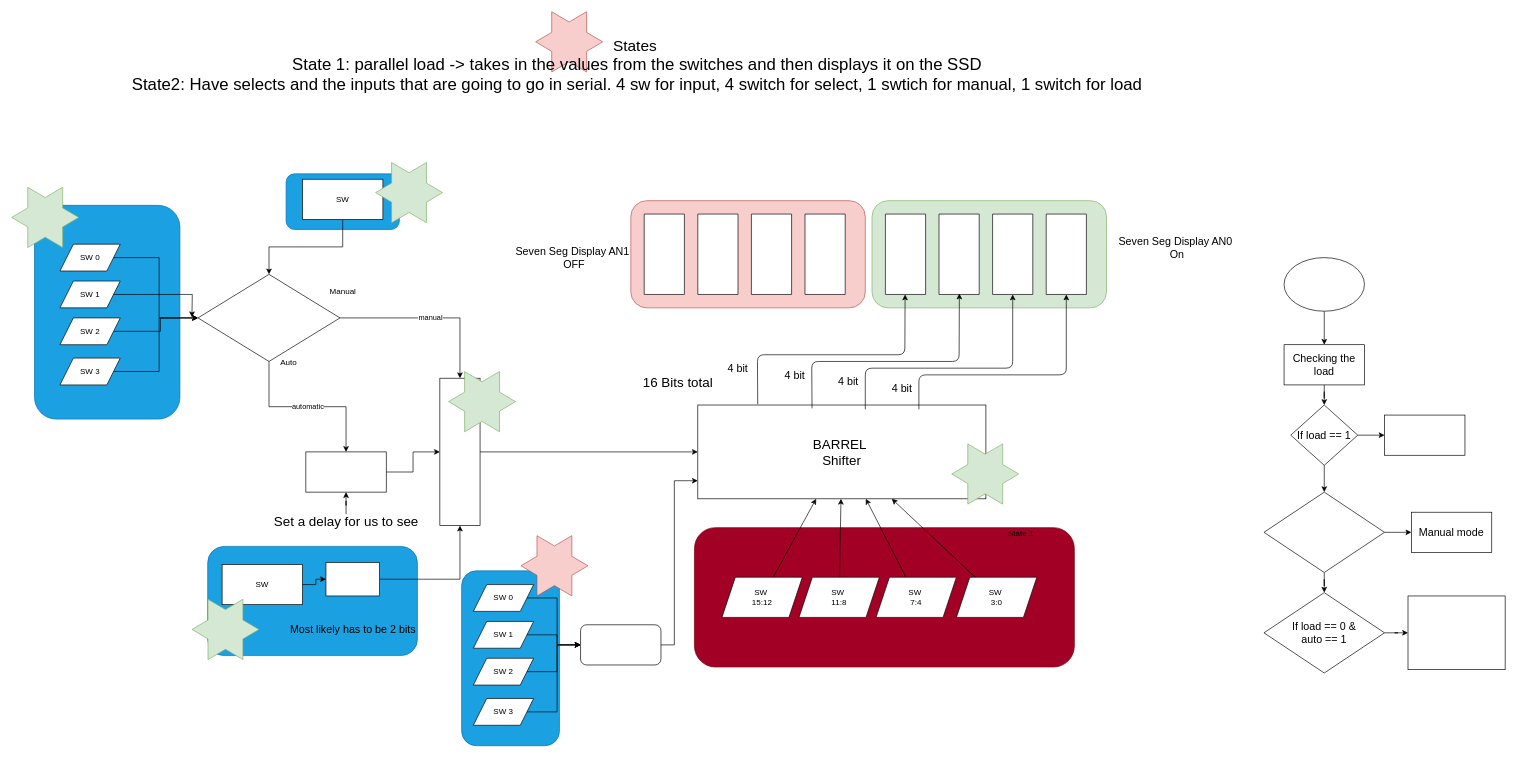
This 1517x758 diagram has some shape labels left out. The shapes that lost their labels are listed below. From the top down, each one's centre as x and y in pixels, then its label:
At (x=1323, y=284): "Program start:".
At (x=268, y=317): "Manual or automatic mode".
At (x=459, y=452): "input X (4 bits)".
At (x=1424, y=434): "X will be loaded by 4-bit value".
At (x=345, y=471): "automatically increment counter".
At (x=1324, y=532): "If load == 0 & auto == 0".
At (x=352, y=579): "Load".
At (x=620, y=644): "Select The Operation (rotate or shift, right or left) 4-bit".
At (x=1456, y=632): "Counter: Ouput of X Module will be as 4 bit up counter".
